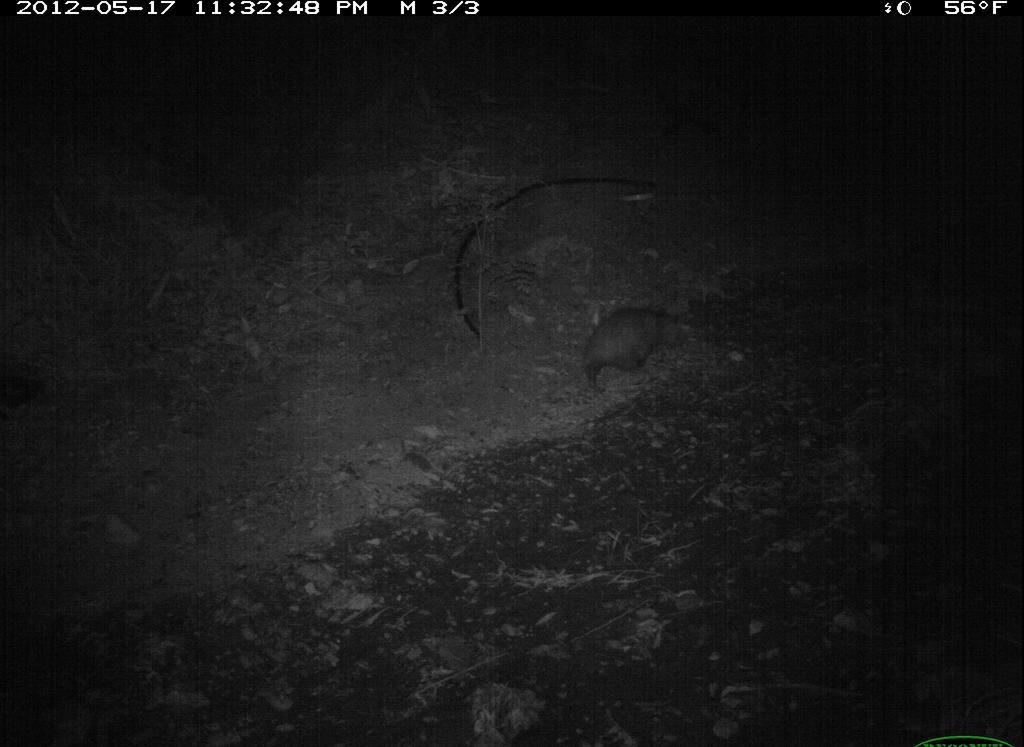opossum: (551, 296, 707, 392)
